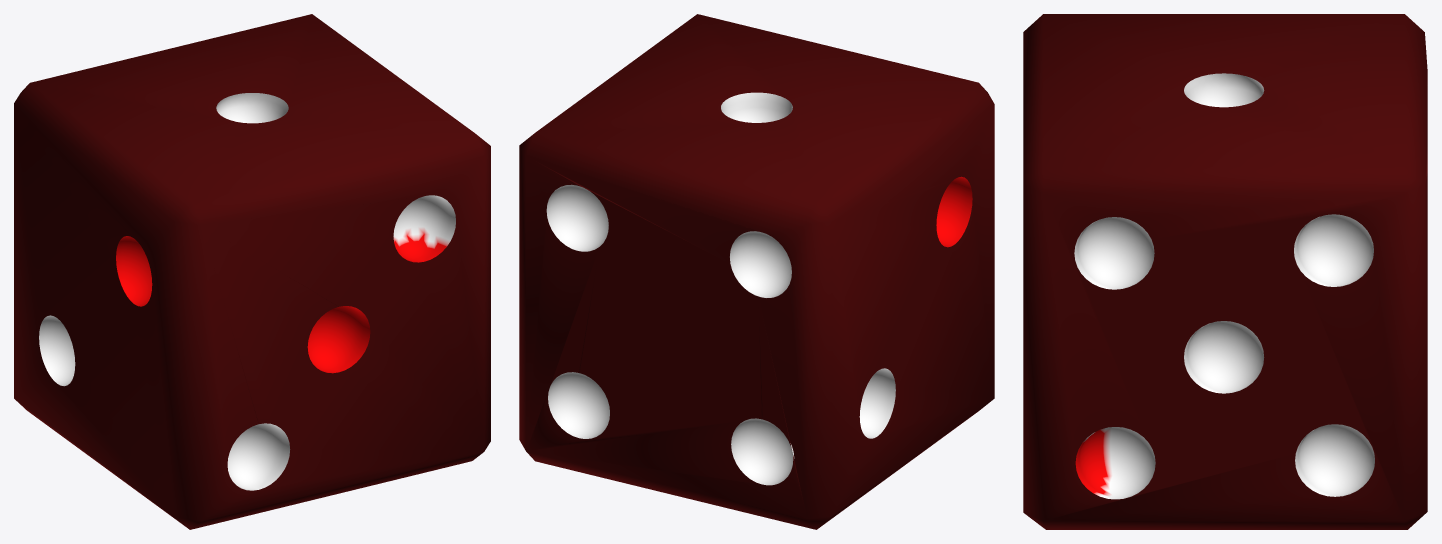
Rendered from dice(glass).FBX.
3 views of the same model, side by side, from view 1: azimuth 30°, elevation 25°; view 2: azimuth 150°, elevation 25°; view 3: azimuth 270°, elevation 25° (orthographic). The views are drawn at different scales.
Visible parts, largest first — view 1: ChamferBox001; view 2: ChamferBox001; view 3: ChamferBox001.
Boxes of the visible parts, <box> form: ChamferBox001: <box>14,14,490,529</box>; ChamferBox001: <box>519,14,994,529</box>; ChamferBox001: <box>1023,14,1427,529</box>.
Bounding box in the file's own units: 3.96 × 3.94 × 3.96.
